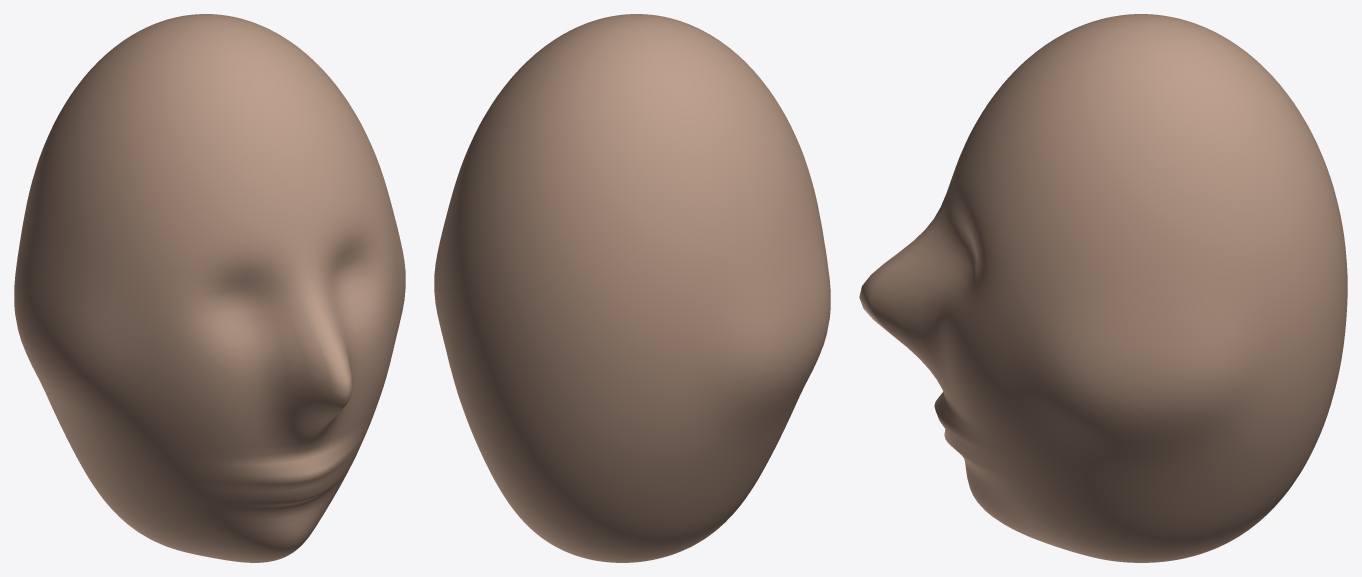
Rendered from head.glb.
The picture shows the model from 3 angles, left to right: view 1: azimuth 30°, elevation 25°; view 2: azimuth 150°, elevation 25°; view 3: azimuth 270°, elevation 25°; orthographic projection. The views are drawn at different scales.
Visible parts, largest first — view 1: ProceduralHead; view 2: ProceduralHead; view 3: ProceduralHead.
Part boxes in pixels (box(x1,y1,x2,y2)): ProceduralHead: box(14, 14, 405, 562); ProceduralHead: box(434, 14, 830, 562); ProceduralHead: box(859, 14, 1347, 562).
Bounding box in the file's own units: 0.1755 × 0.25 × 0.2129.
